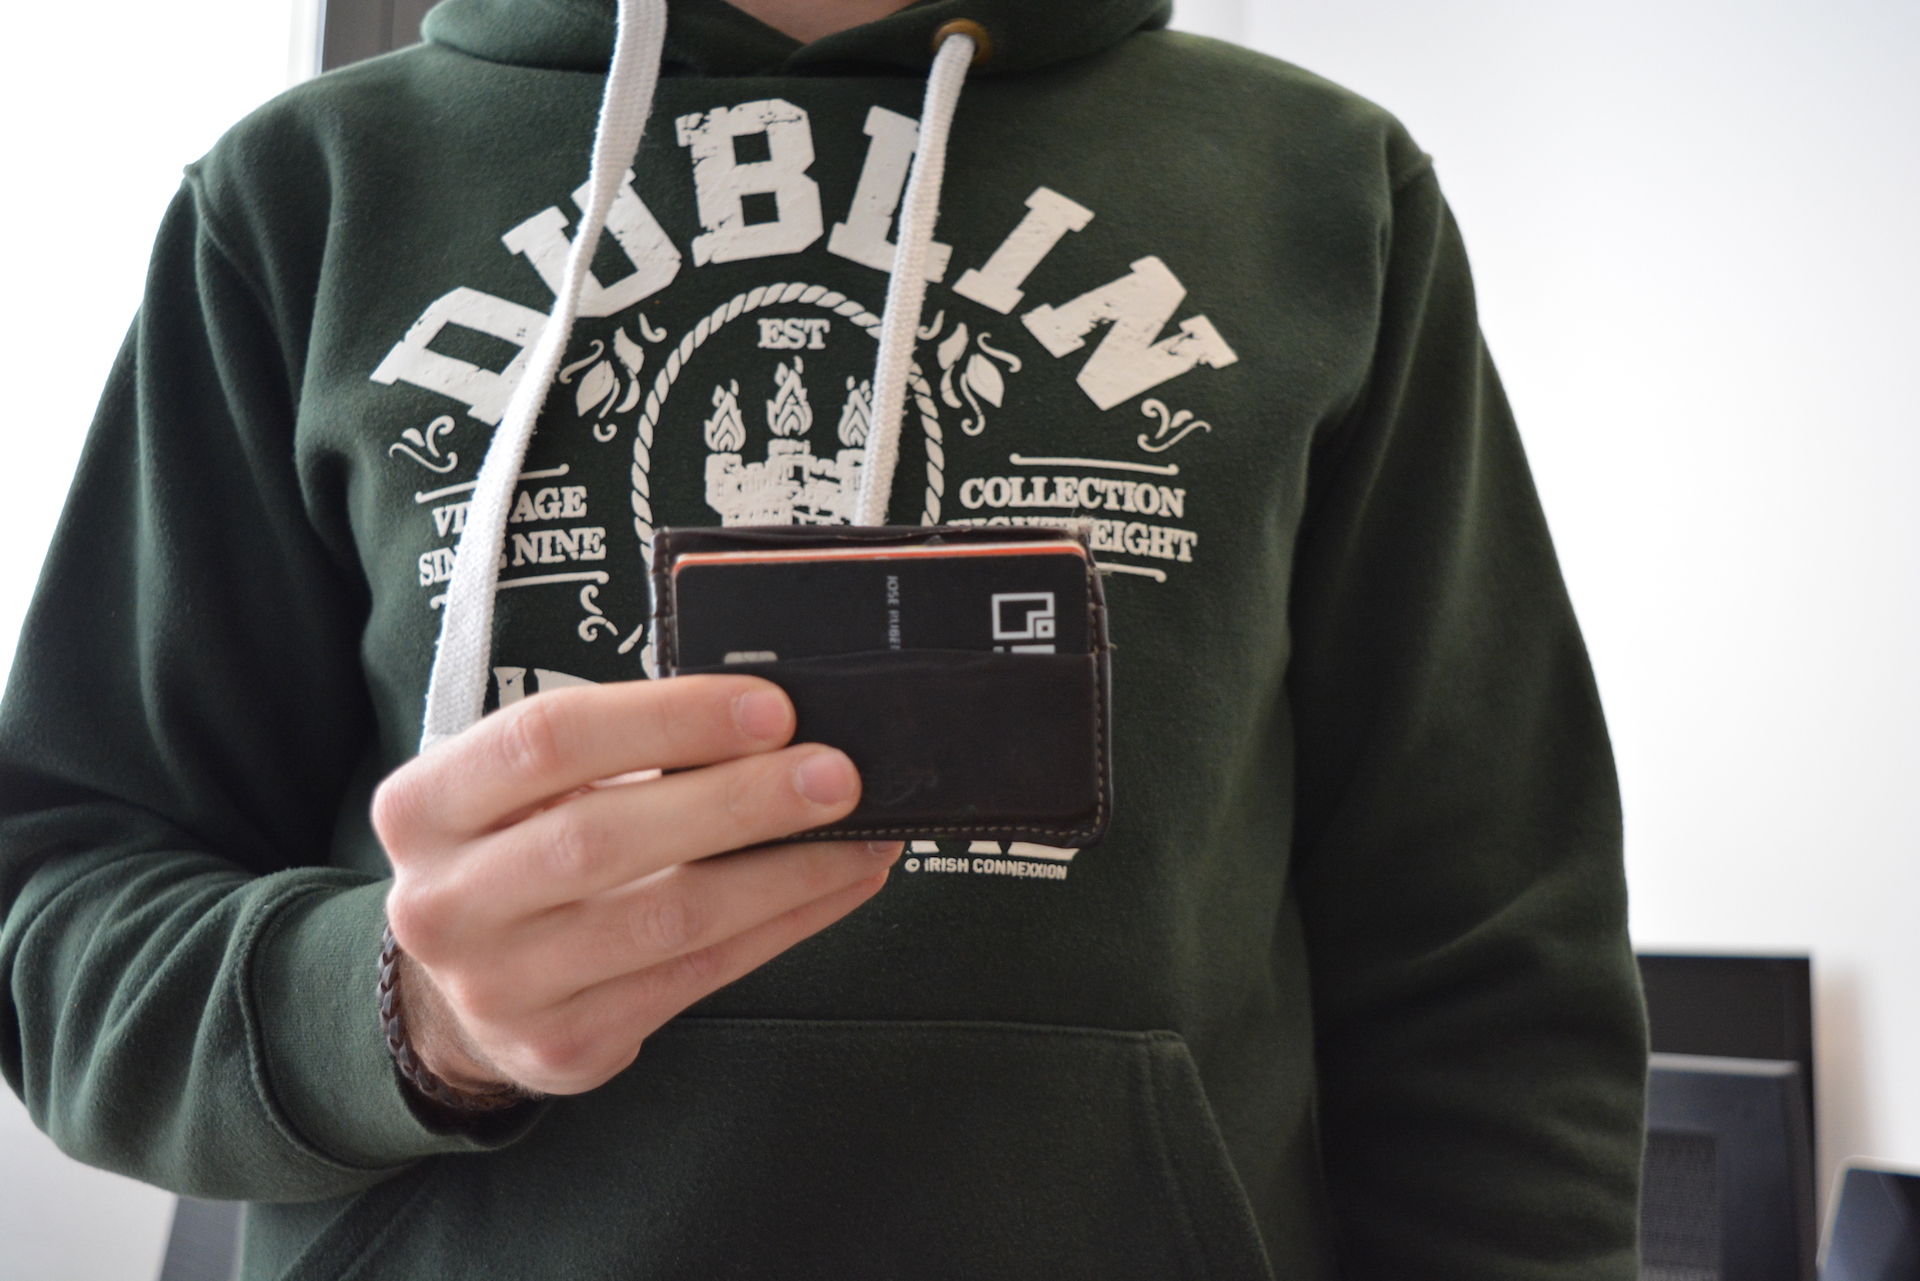monedero: (646, 518, 1117, 851)
